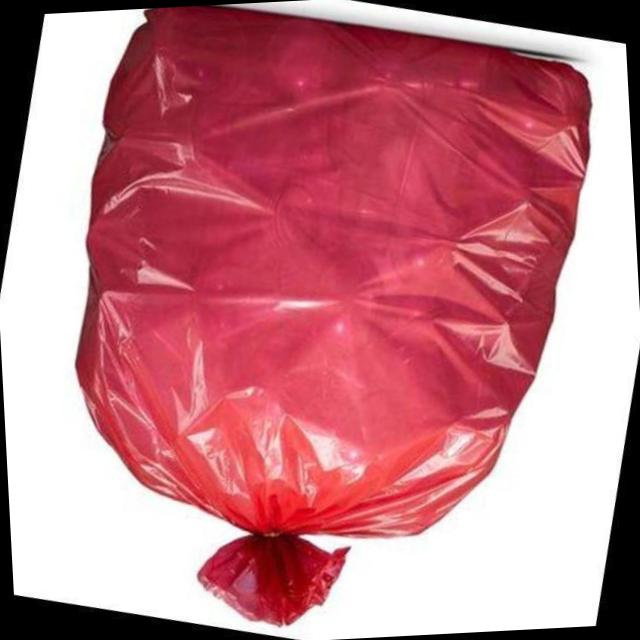KantongPlastik: (54, 0, 619, 639)
